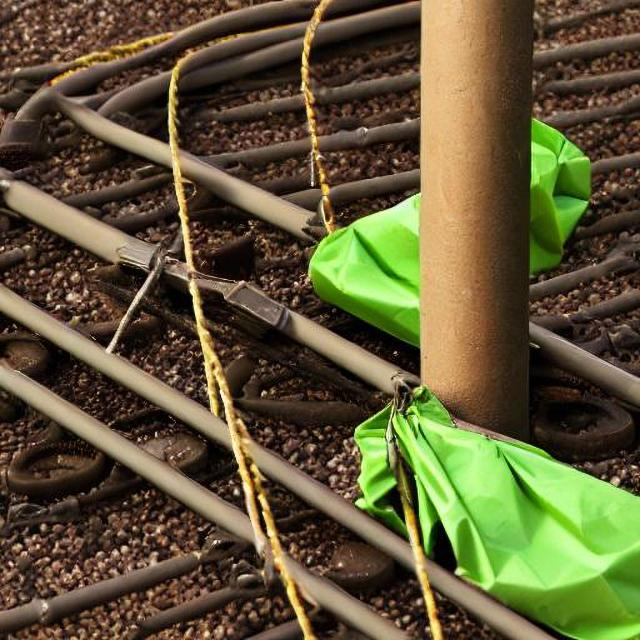plastic bag: (304, 100, 580, 359), (371, 385, 636, 629)
